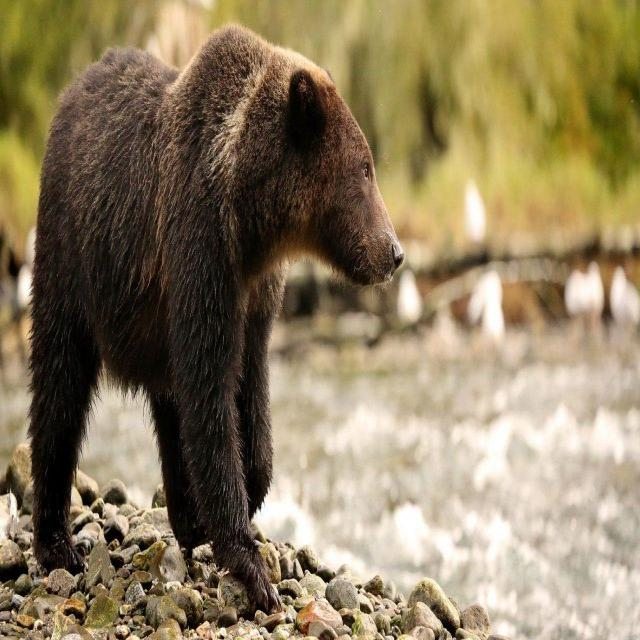Bear: (4, 25, 407, 620)
